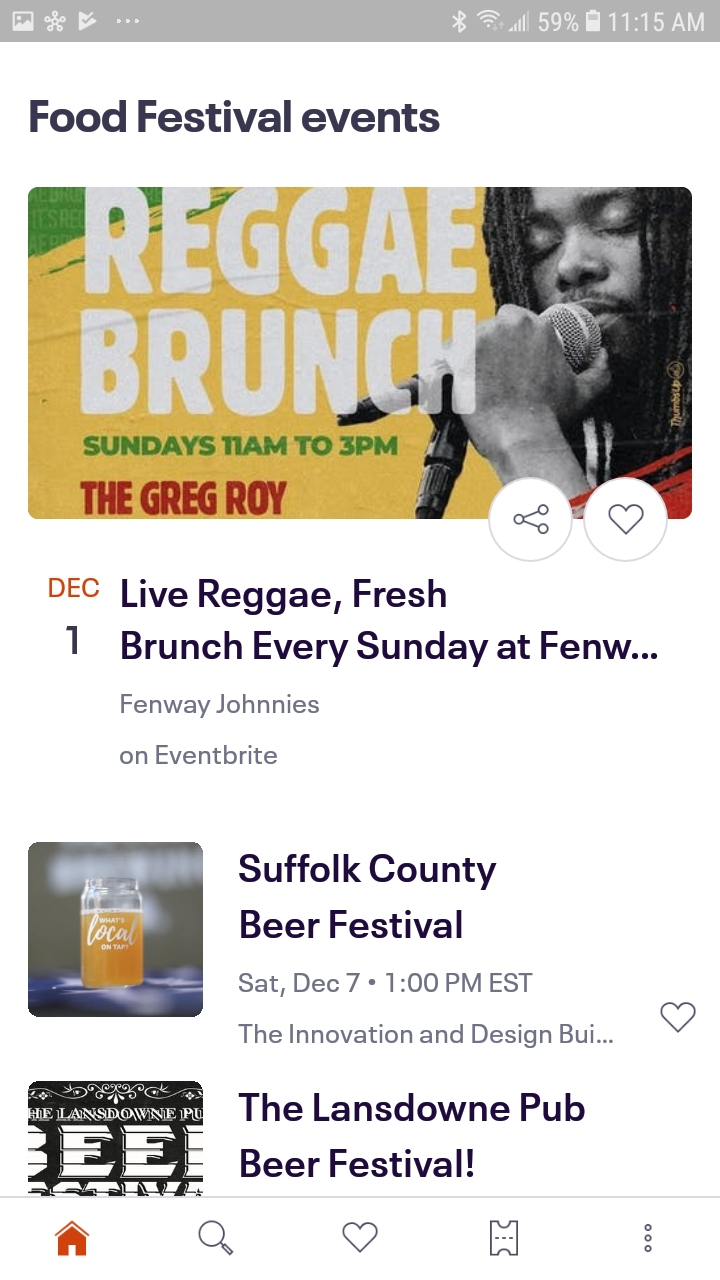Icon: (487, 477, 573, 563), (584, 478, 668, 562), (55, 1220, 91, 1257), (198, 1220, 234, 1255), (342, 1221, 379, 1253), (660, 1001, 696, 1033), (489, 1219, 519, 1256), (643, 1223, 653, 1253)
Image: (29, 187, 693, 520), (29, 842, 204, 1018), (28, 1080, 204, 1197)
Text: (122, 579, 658, 669), (238, 1092, 586, 1178), (238, 972, 613, 1049), (239, 853, 497, 939), (30, 100, 440, 134), (120, 693, 321, 719), (120, 744, 278, 766), (50, 577, 101, 598), (67, 625, 79, 655)
UpperTaskBar: (1, 1, 720, 43)
